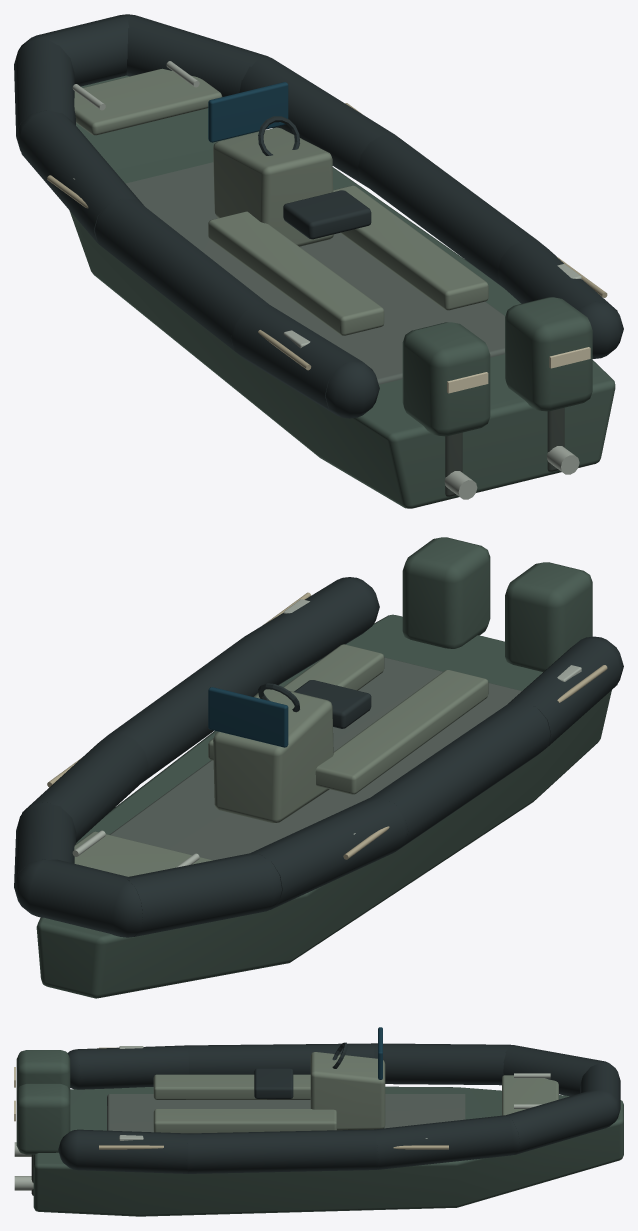
Rendered from cas_fast_assault_boat.glb.
The picture shows the model from 3 angles, top to bottom: view 1: azimuth 30°, elevation 25°; view 2: azimuth 150°, elevation 25°; view 3: azimuth 270°, elevation 25°; orthographic projection. The views are drawn at different scales.
Parts seen in each view (by area): view 1: Hull; view 2: Hull; view 3: Hull.
Boxes of the visible parts, x1=… form: Hull: x1=14, y1=14, x2=623, y2=508; Hull: x1=14, y1=537, x2=623, y2=998; Hull: x1=14, y1=1027, x2=623, y2=1216.
Bounding box in the file's own units: 3.06 × 1.94 × 7.49.
